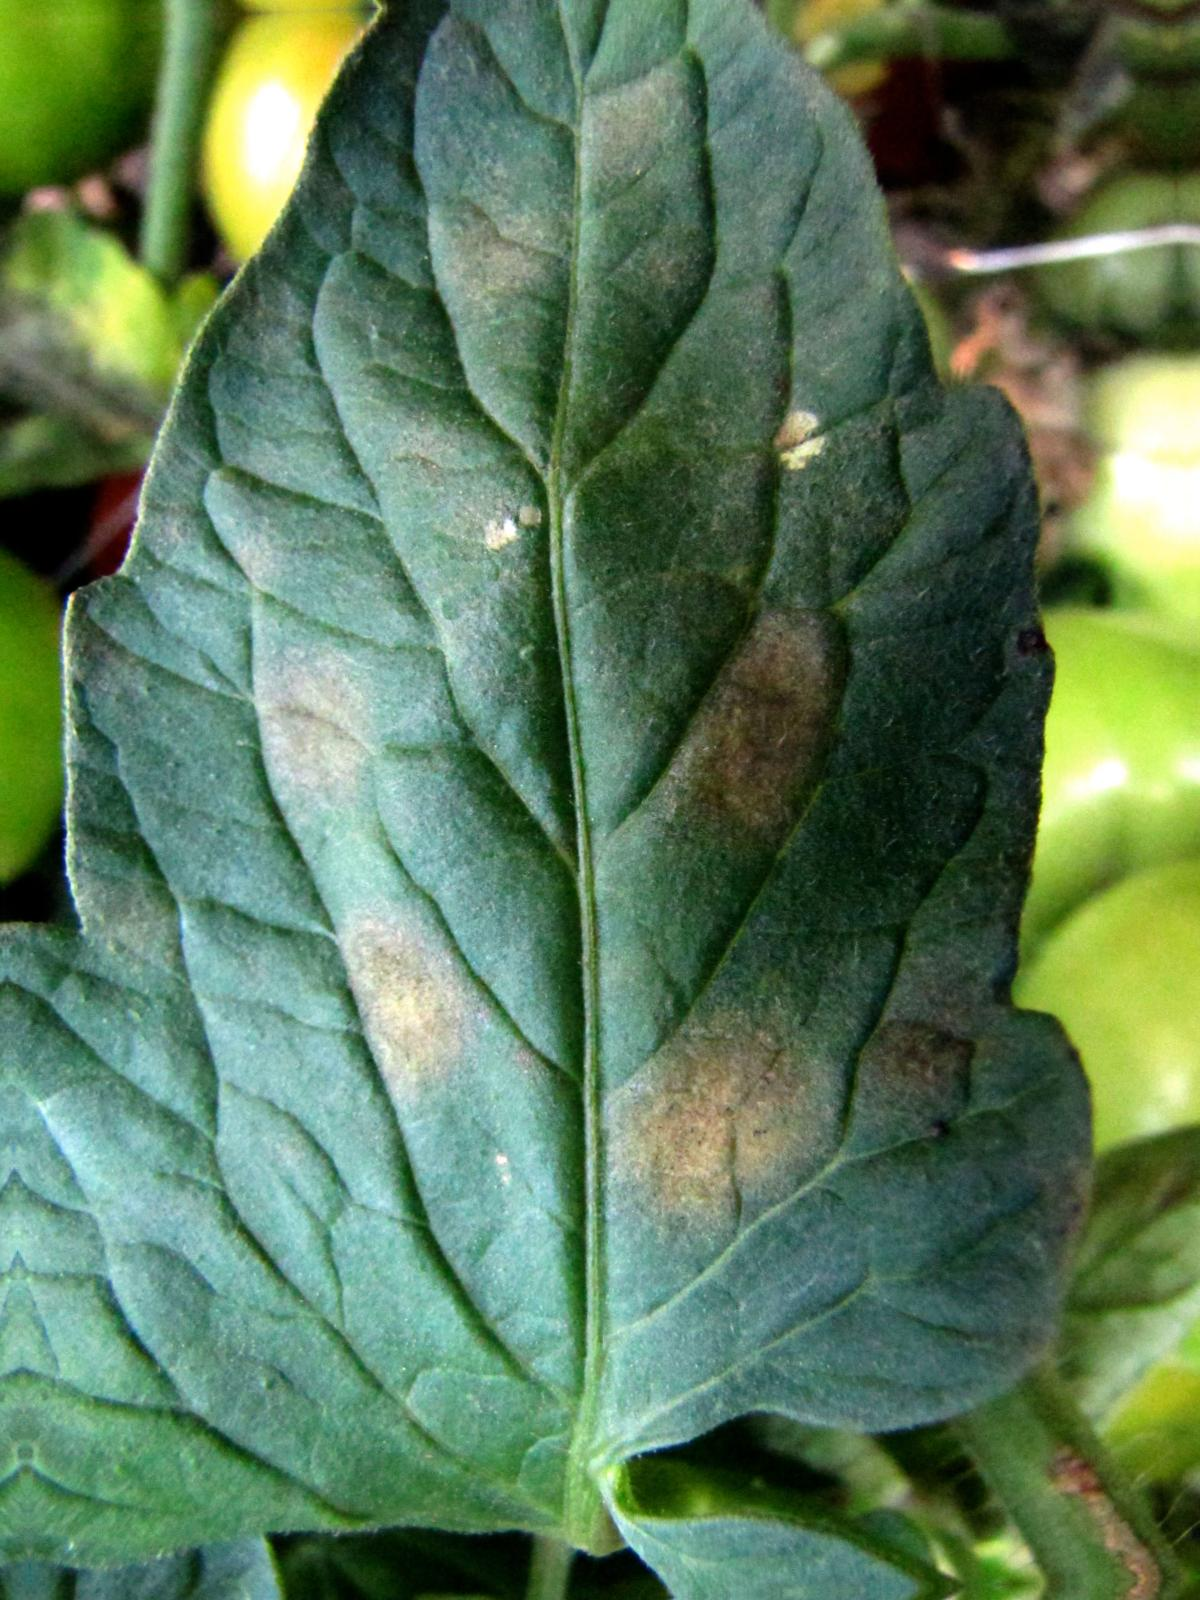Tomato mold leaf: (0, 0, 1112, 1593)
